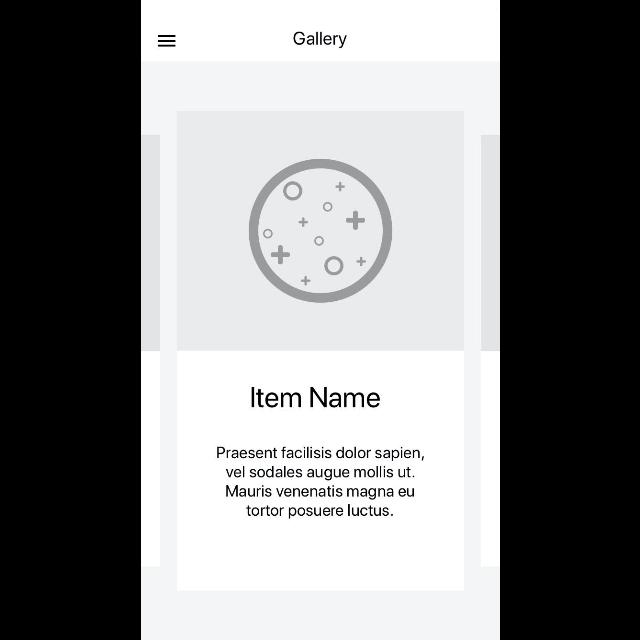icon: (158, 35, 176, 47)
image: (176, 112, 464, 350)
text: (216, 446, 424, 520), (250, 387, 380, 408), (293, 32, 347, 48)
